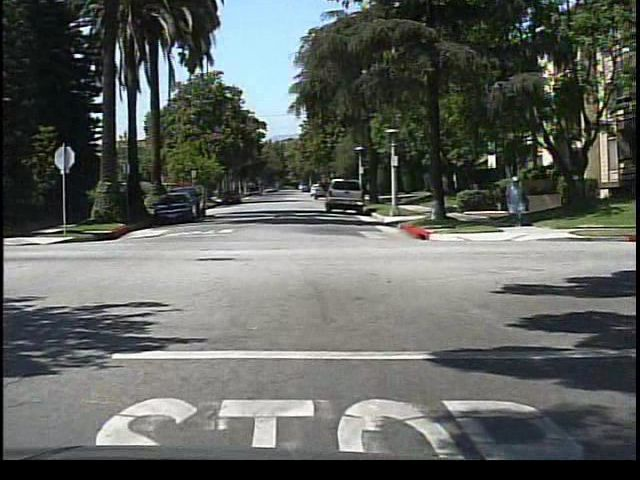person: (501, 172, 530, 229)
